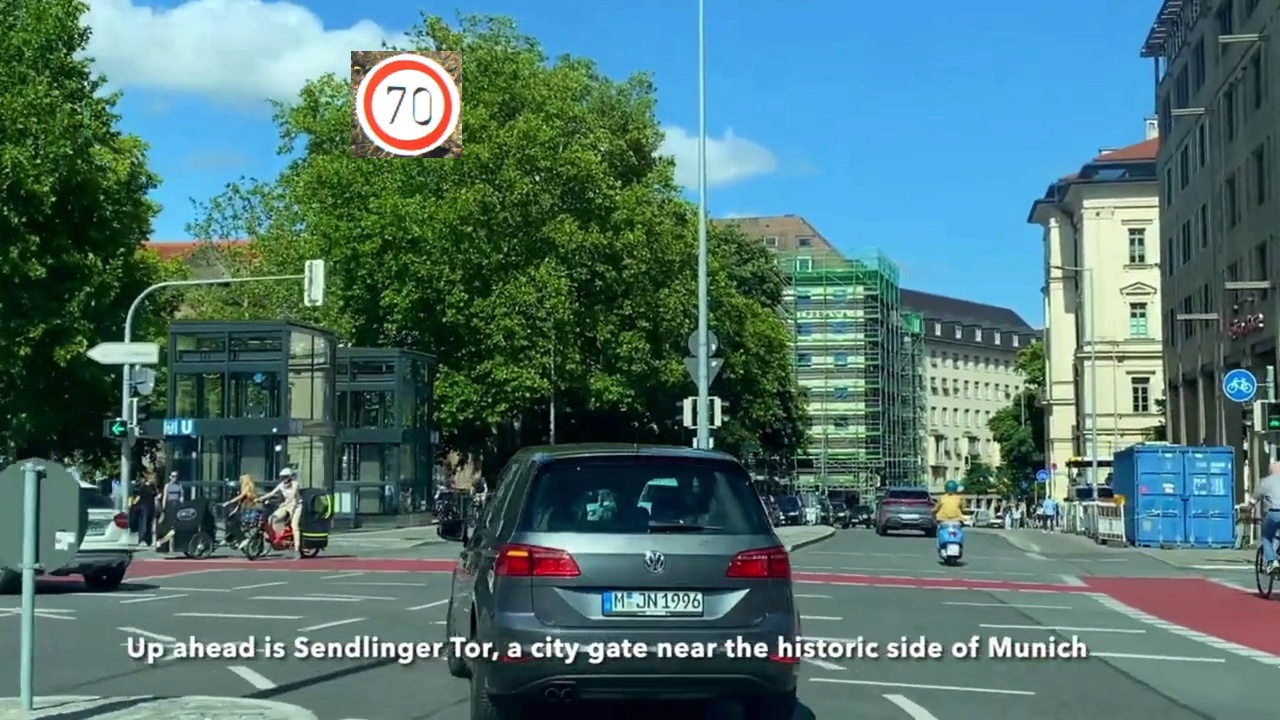Speed 70: (351, 51, 462, 158)
